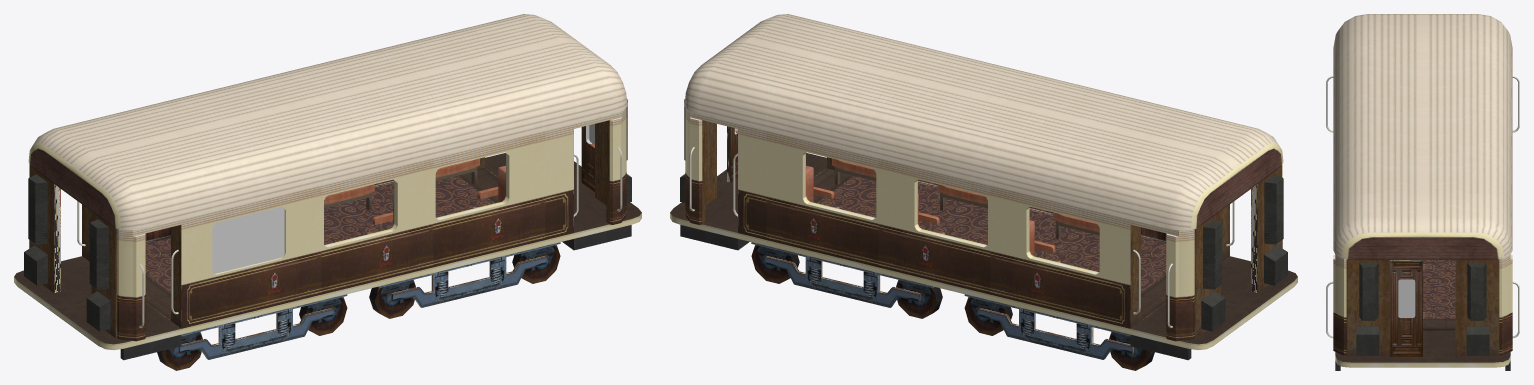
The model's file is train_march_7_2016.FBX.
3 renders of one model, left to right at view 1: azimuth 30°, elevation 25°; view 2: azimuth 150°, elevation 25°; view 3: azimuth 270°, elevation 25°, orthographic. The views are drawn at different scales.
Visible parts, largest first — view 1: train_body, win01, door; view 2: train_body, door; view 3: train_body, door, win02.
Part boxes in pixels (x1=…): train_body: x1=14, y1=14, x2=641, y2=370; win01: x1=212, y1=207, x2=284, y2=273; door: x1=581, y1=125, x2=594, y2=191; train_body: x1=670, y1=14, x2=1297, y2=370; door: x1=727, y1=126, x2=737, y2=182; train_body: x1=1326, y1=14, x2=1519, y2=370; door: x1=1390, y1=260, x2=1422, y2=356; win02: x1=1398, y1=279, x2=1415, y2=317.
Bounding box in the file's own units: 633 × 218 × 223.
